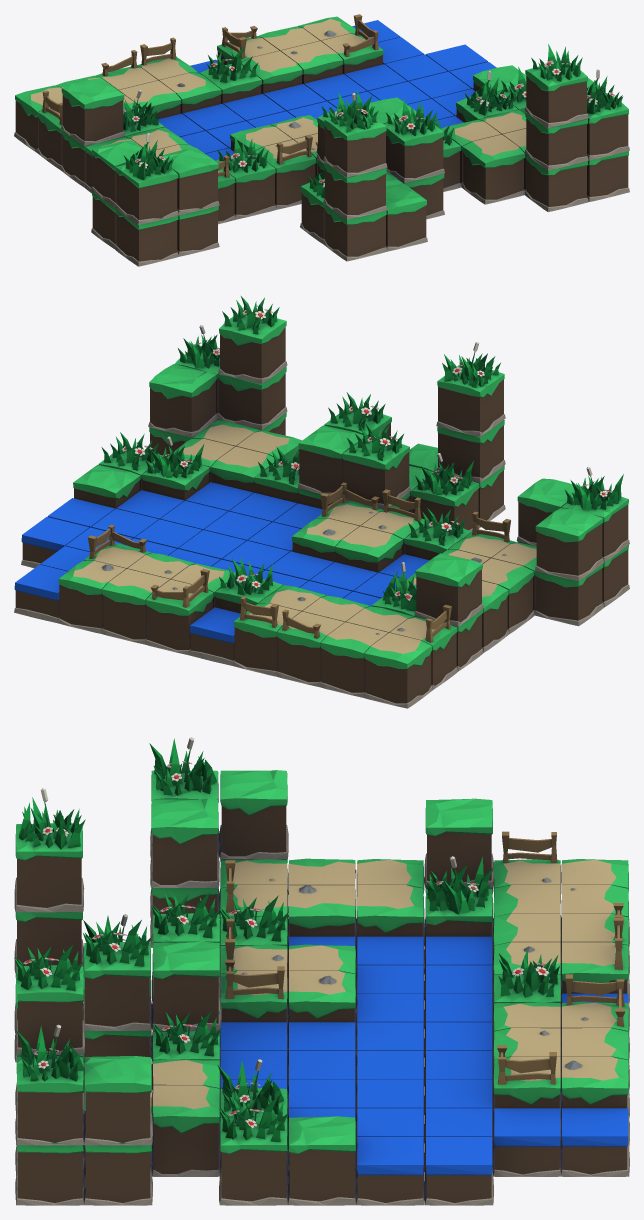
The model's file is Crime_Map_04.FBX.
The picture shows the model from 3 angles, top to bottom: view 1: azimuth 30°, elevation 25°; view 2: azimuth 150°, elevation 25°; view 3: azimuth 270°, elevation 25°; orthographic projection. The views are drawn at different scales.
Visible parts, largest first — view 1: Wall_01, Plant_01, Water_01, Ground_01, Plant_02, Wall_Ground_01, Wood_01, Flower_01, Stone_01; view 2: Wall_01, Plant_01, Water_01, Ground_01, Plant_02, Wall_Ground_01, Wood_01, Flower_01, Stone_01; view 3: Wall_01, Plant_01, Water_01, Ground_01, Plant_02, Wall_Ground_01, Wood_01, Flower_01, Stone_01.
Boxes of the visible parts, left/top/right/bottom form: Wall_01: left=15, top=51, right=628, bottom=261; Plant_01: left=15, top=16, right=628, bottom=229; Water_01: left=158, top=20, right=496, bottom=160; Ground_01: left=31, top=19, right=526, bottom=172; Plant_02: left=123, top=44, right=623, bottom=198; Wall_Ground_01: left=14, top=107, right=629, bottom=266; Wood_01: left=42, top=14, right=378, bottom=177; Flower_01: left=123, top=59, right=615, bottom=187; Stone_01: left=123, top=30, right=613, bottom=182; Wall_01: left=15, top=327, right=628, bottom=703; Plant_01: left=58, top=313, right=628, bottom=668; Water_01: left=14, top=482, right=429, bottom=643; Ground_01: left=73, top=424, right=536, bottom=653; Plant_02: left=101, top=296, right=623, bottom=611; Wall_Ground_01: left=14, top=361, right=629, bottom=708; Wood_01: left=88, top=482, right=510, bottom=642; Flower_01: left=121, top=309, right=612, bottom=600; Stone_01: left=102, top=310, right=610, bottom=634; Wall_01: left=17, top=806, right=627, bottom=1202; Plant_01: left=15, top=770, right=628, bottom=1153; Water_01: left=220, top=936, right=628, bottom=1175; Ground_01: left=150, top=860, right=618, bottom=1113; Plant_02: left=14, top=738, right=559, bottom=1142; Wall_Ground_01: left=14, top=825, right=629, bottom=1205; Wood_01: left=225, top=831, right=625, bottom=1084; Flower_01: left=23, top=737, right=548, bottom=1128; Stone_01: left=26, top=761, right=587, bottom=1125.
Size of the model in its own units: 34.36 by 11.6 by 28.34.
